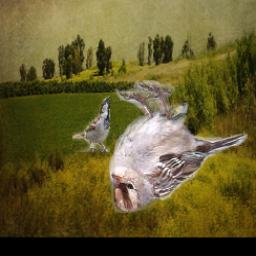Sparrow: (105, 81, 249, 214), (72, 97, 110, 153)
